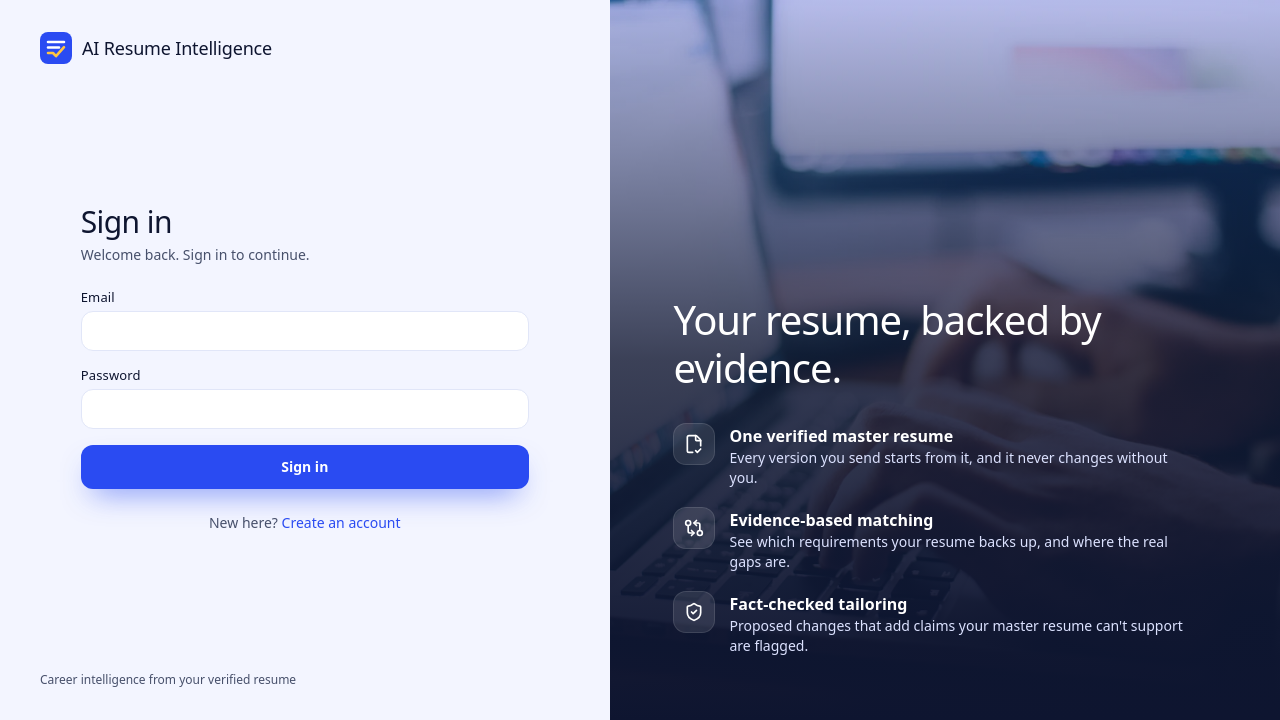
Scenario: login › shows the server's generic error on bad credentials
Type "ada@example.com" into the field labelled "Email" at [305, 331], box x1=81 y1=311 x2=529 y2=351
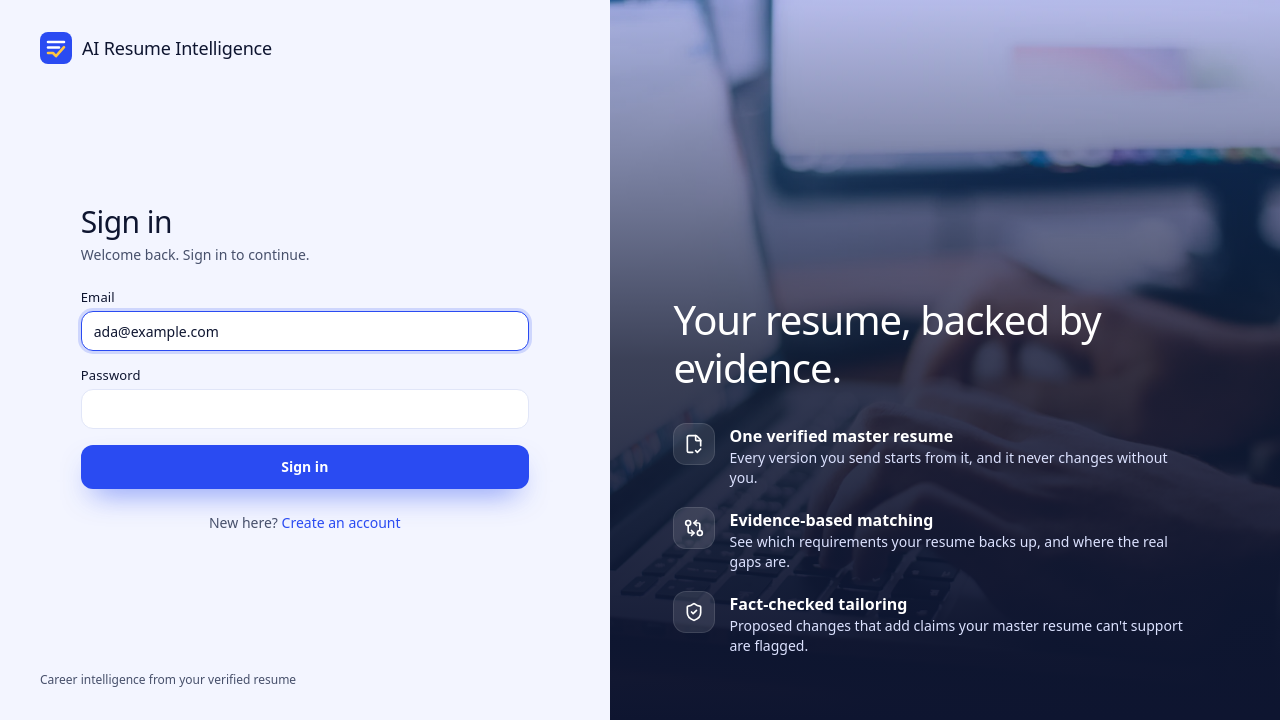
Type "wrong-password" into the password field labelled "Password" at [305, 409], box x1=81 y1=389 x2=529 y2=429
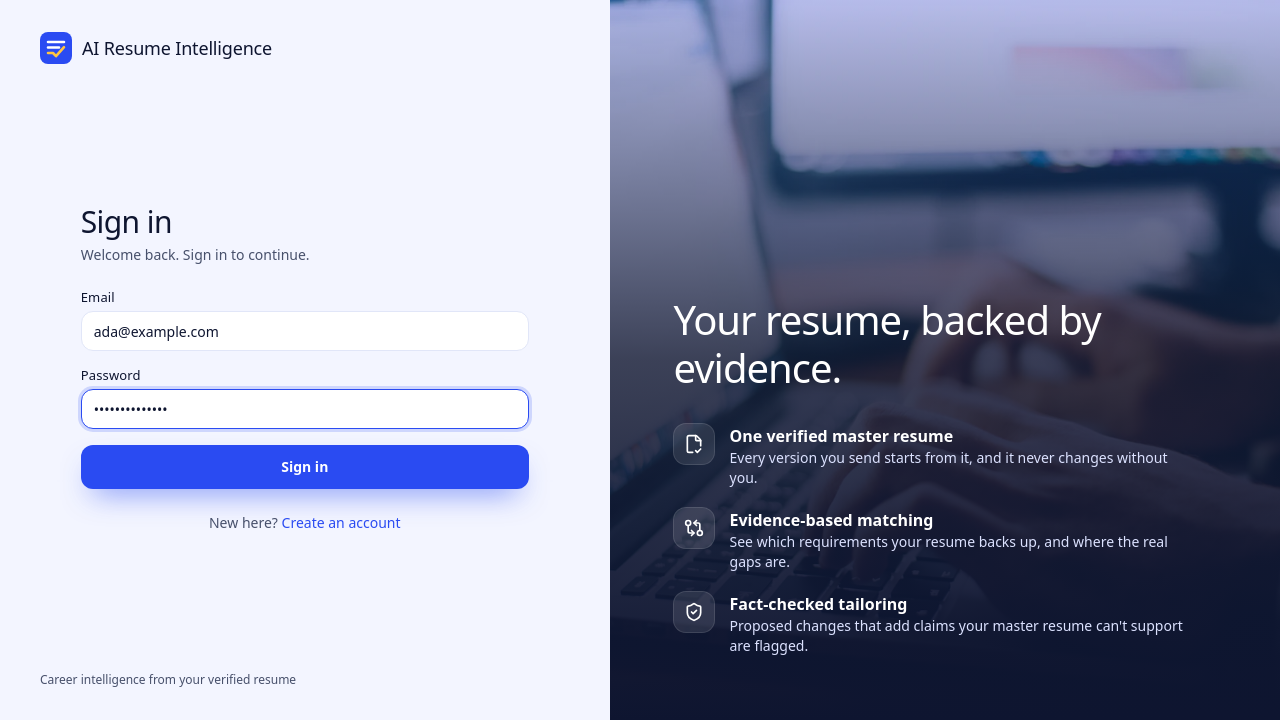
Click the button "Sign in" at [305, 467], box x1=81 y1=445 x2=529 y2=489
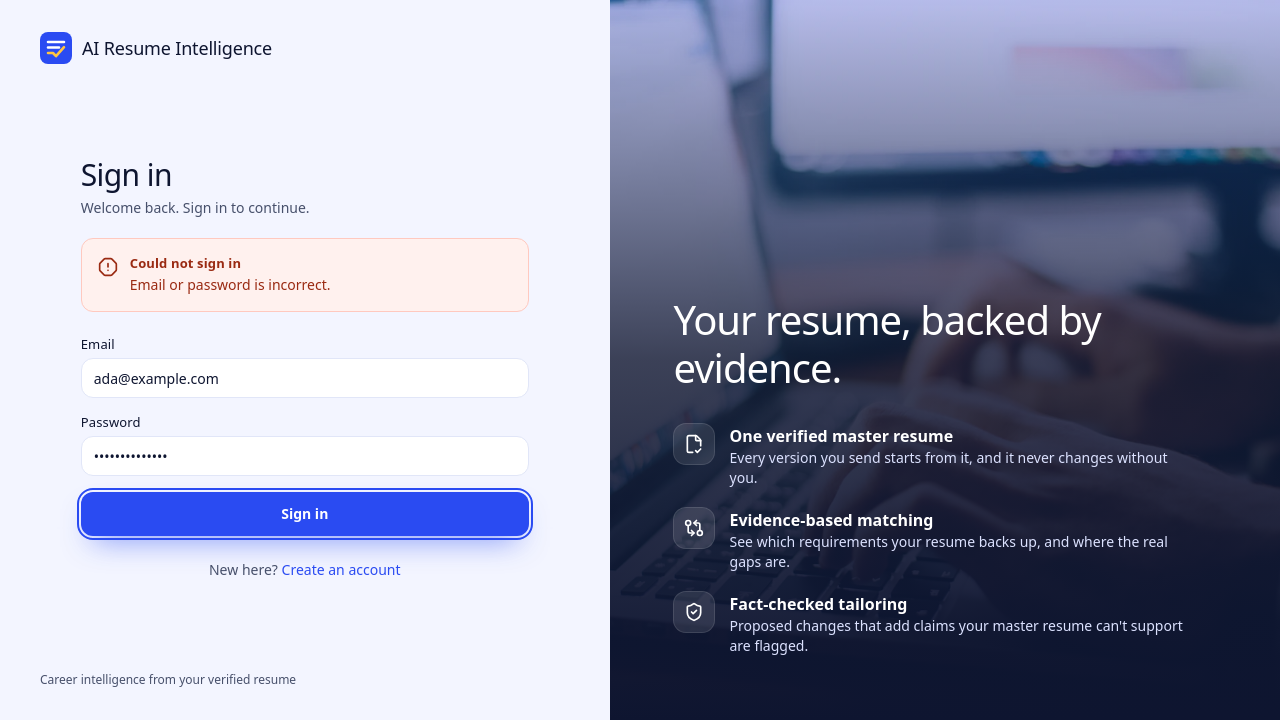
Result: the text "Email or password is incorrect." is shown at x1=130 y1=275 x2=330 y2=294
